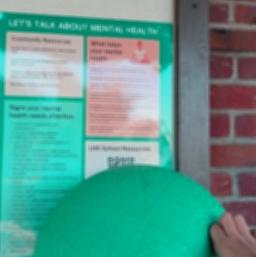algae: (31, 163, 247, 257)
